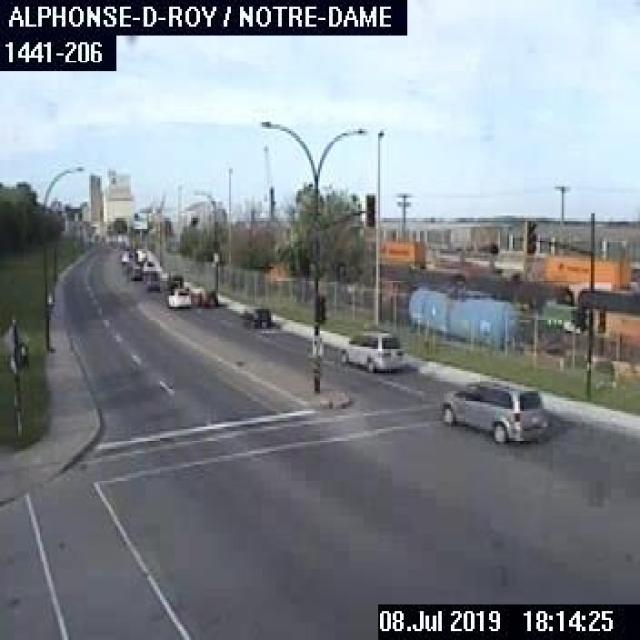vehicle: (438, 378, 548, 442), (338, 328, 404, 371), (238, 302, 269, 327), (164, 283, 191, 307), (194, 286, 217, 305), (166, 272, 182, 286), (146, 277, 159, 289)
